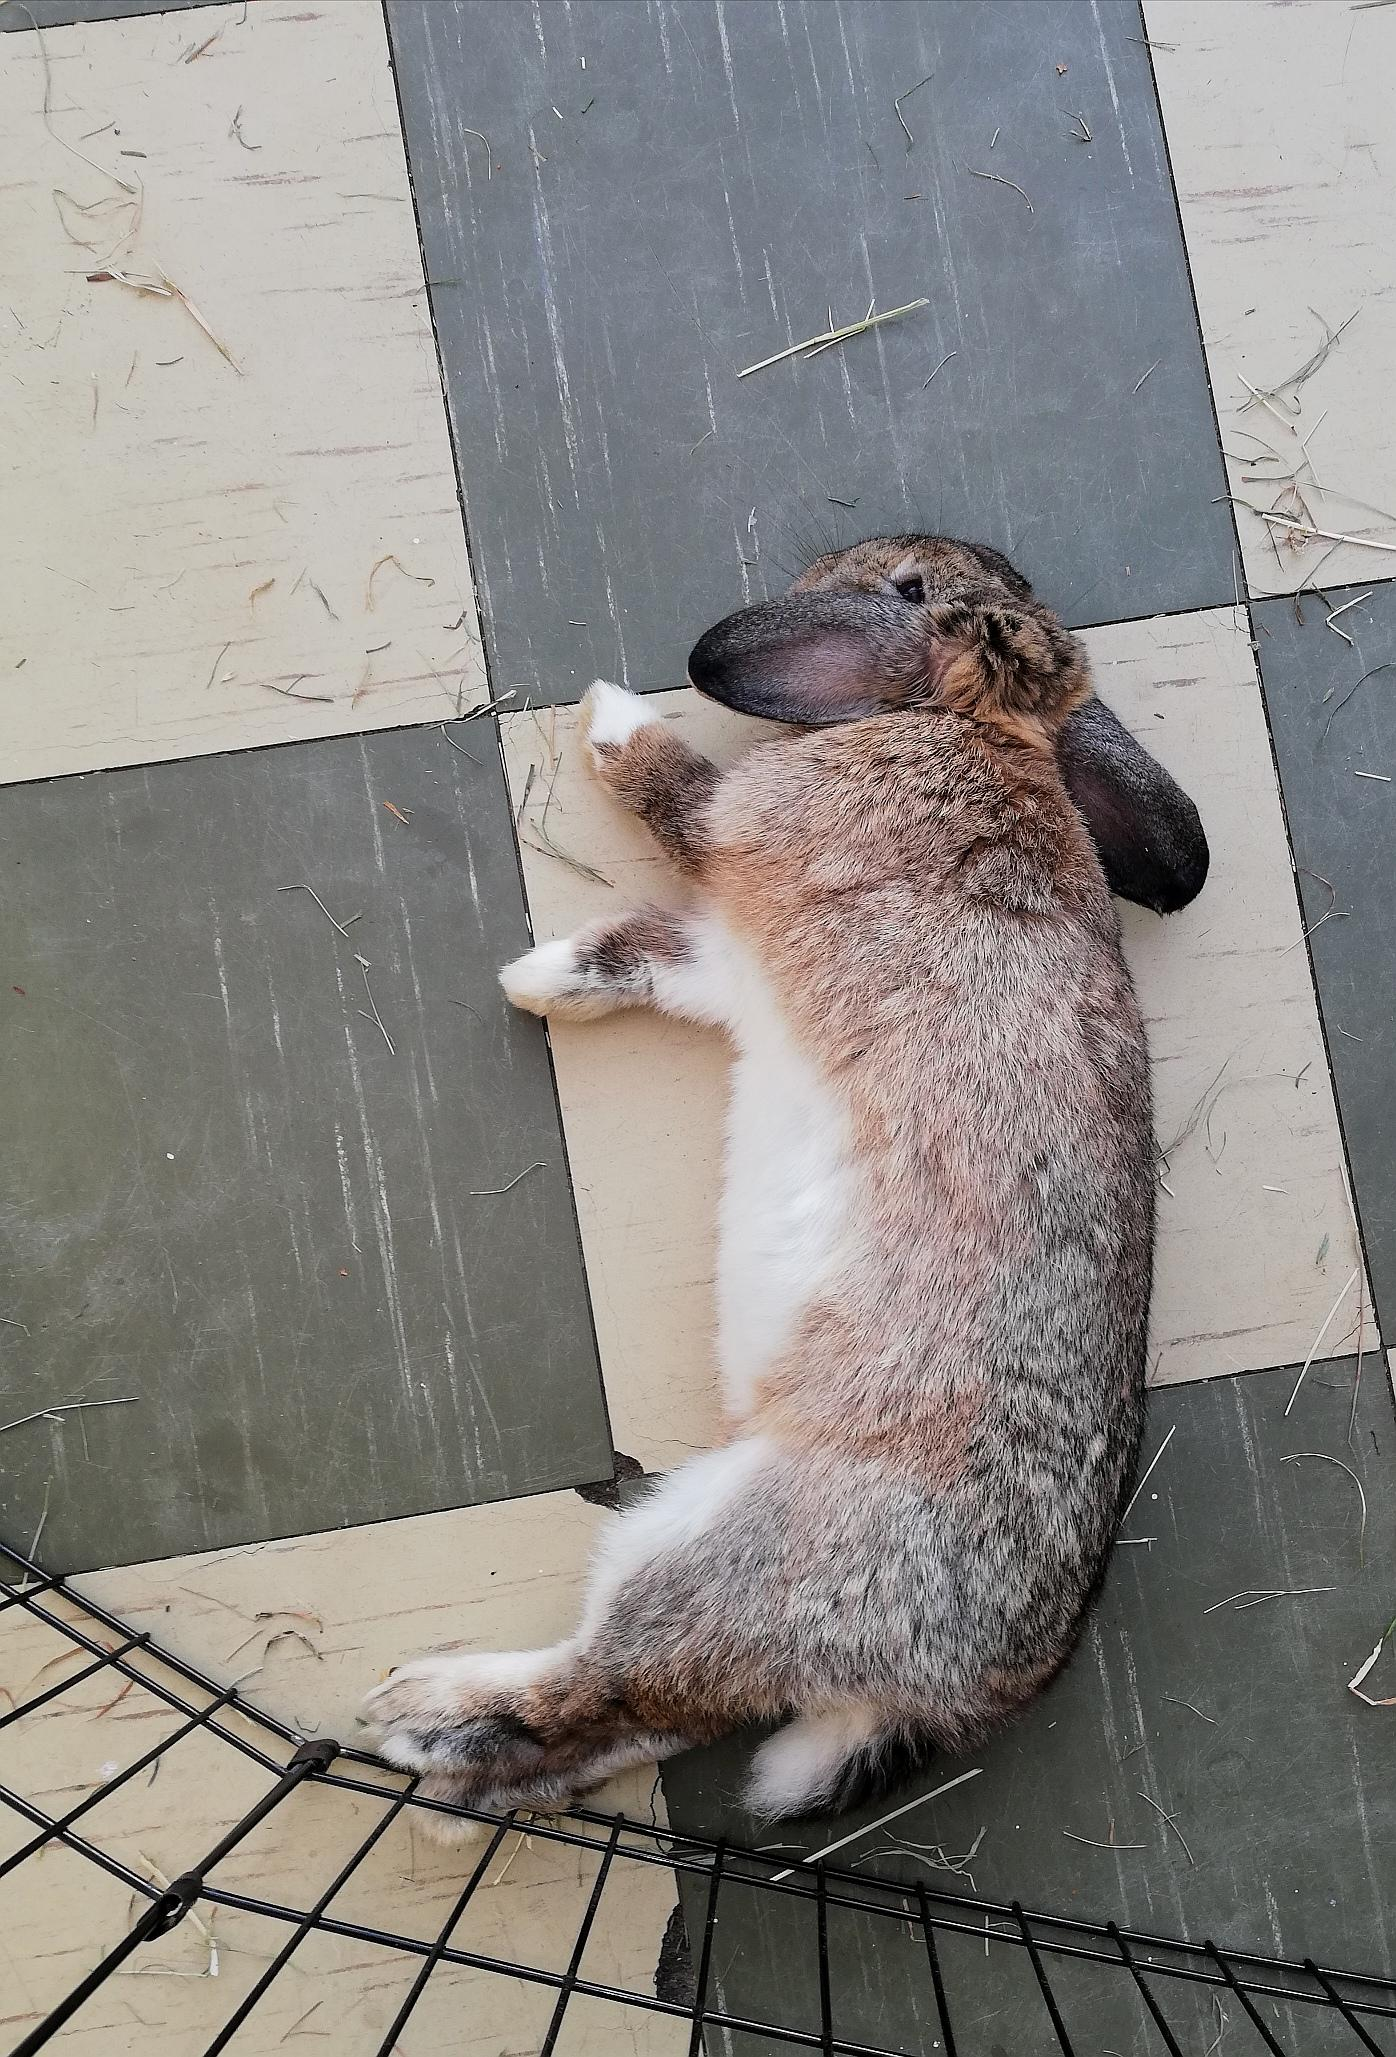bunny: (330, 449, 1260, 1896)
